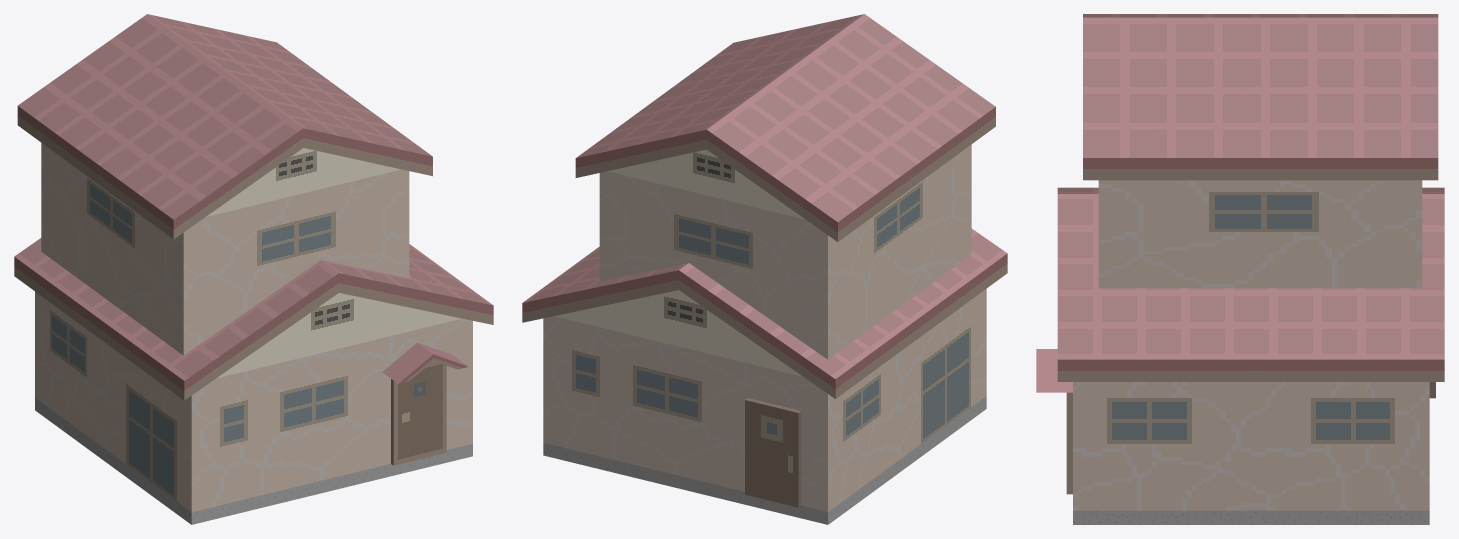
Rendered from 0260_Matsuo_Residence.glb.
3 renders of one model, left to right at view 1: azimuth 30°, elevation 25°; view 2: azimuth 150°, elevation 25°; view 3: azimuth 270°, elevation 25°, orthographic. The views are drawn at different scales.
Visible parts, largest first — view 1: part_0; view 2: part_0; view 3: part_0.
Boxes of the visible parts, <box> form: part_0: <box>14,14,493,524</box>; part_0: <box>522,14,1007,524</box>; part_0: <box>1036,14,1444,524</box>.
Bounding box in the file's own units: 6.4 × 7.22 × 6.43.
1 material, 1 textured.
